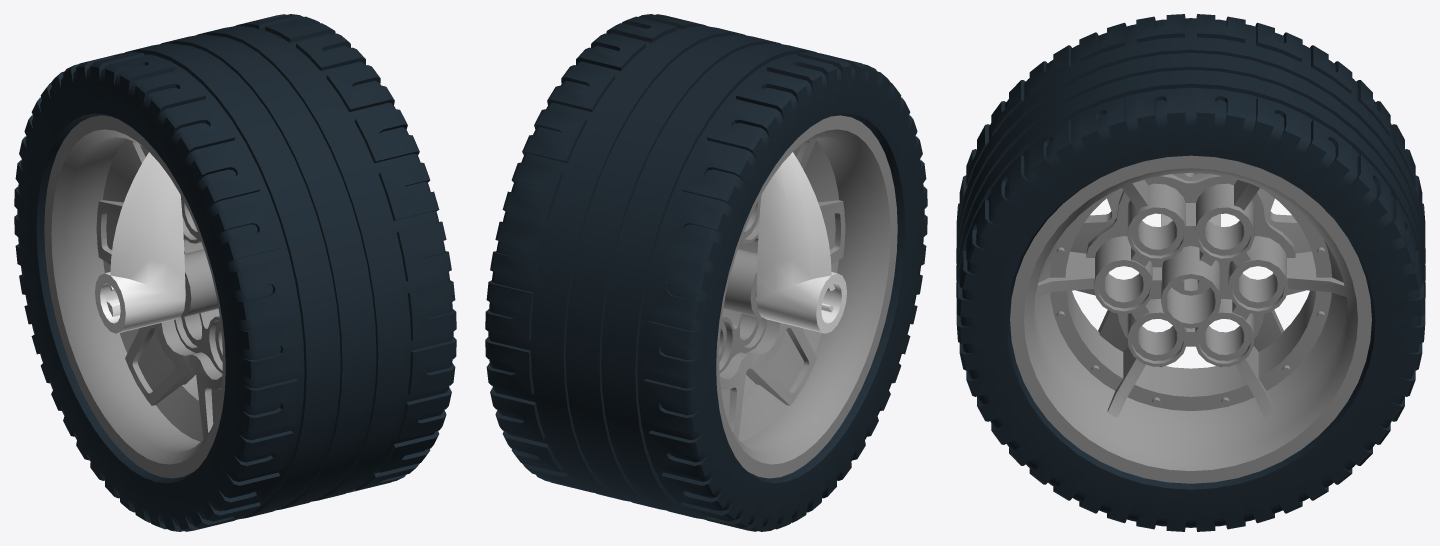
Rendered from modelo_base_diff_wheel_left.obj.
The picture shows the model from 3 angles, left to right: view 1: azimuth 30°, elevation 25°; view 2: azimuth 150°, elevation 25°; view 3: azimuth 270°, elevation 25°; orthographic projection. The views are drawn at different scales.
Visible parts, largest first — view 1: Piece000, Piece001, Piece002; view 2: Piece000, Piece001, Piece002; view 3: Piece000, Piece001.
Boxes of the visible parts, x1,y1,x2,y2 form: Piece000: [14, 14, 456, 531]; Piece001: [44, 115, 225, 478]; Piece002: [95, 152, 185, 333]; Piece000: [485, 14, 927, 531]; Piece001: [716, 115, 897, 478]; Piece002: [756, 152, 846, 333]; Piece000: [956, 14, 1425, 531]; Piece001: [1010, 155, 1371, 483].
Bounding box in the file's own units: 77 × 140 × 140.
